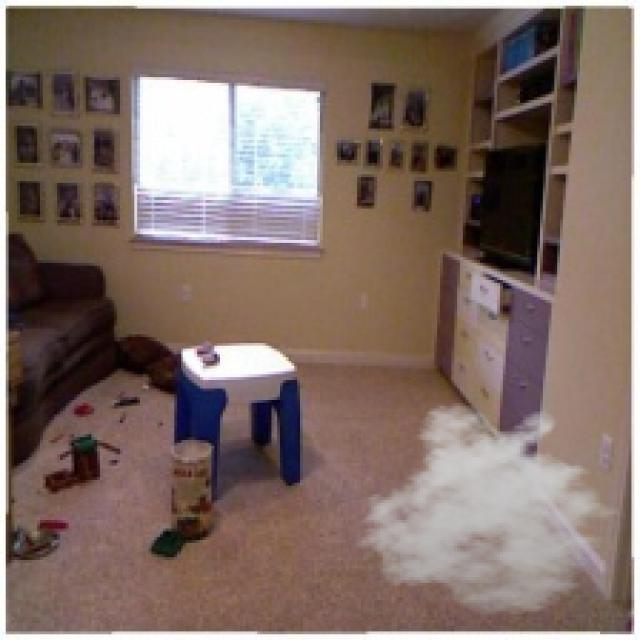Smoke: (354, 402, 634, 618)
